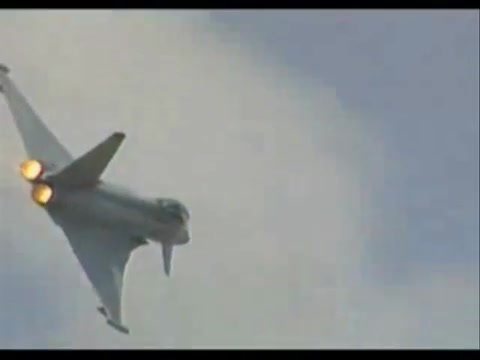aeroplane: (2, 62, 194, 336)
